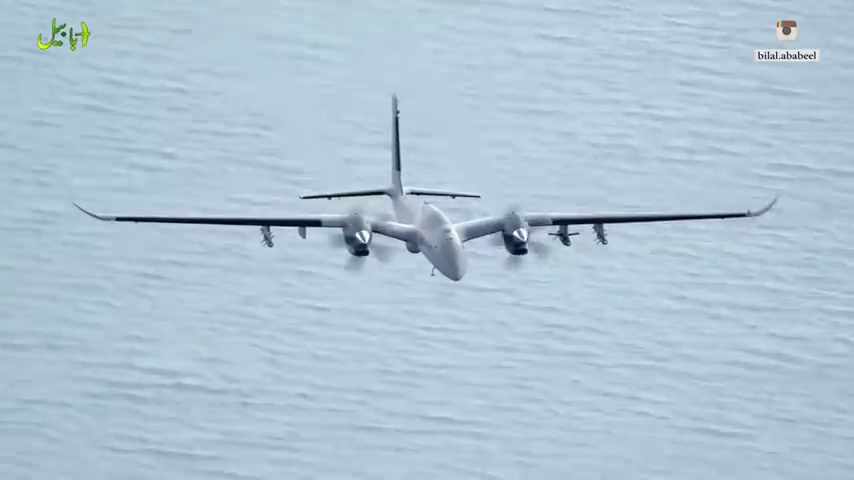military drone: (70, 91, 779, 281)
